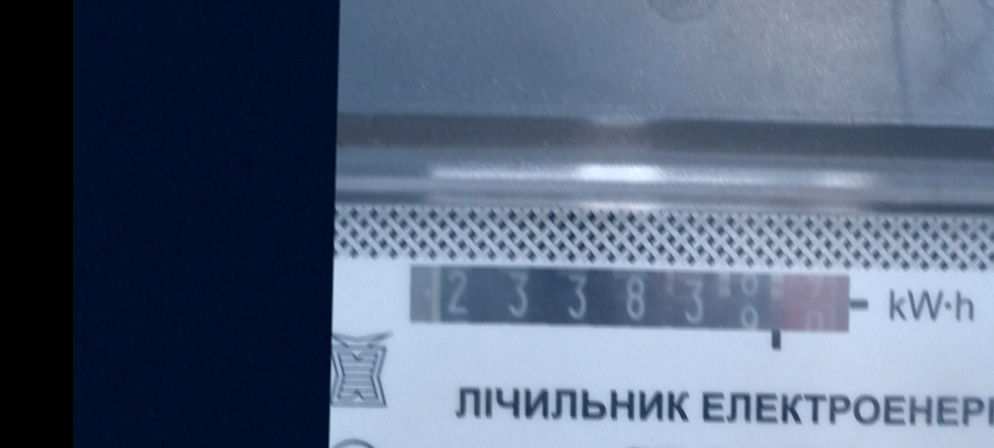0: (804, 308, 827, 334)
2: (446, 268, 471, 316)
3: (562, 271, 592, 321), (504, 269, 534, 318), (682, 277, 707, 323)
8: (622, 274, 650, 321), (738, 271, 762, 298)
9: (804, 271, 827, 302), (739, 303, 760, 332)
screen: (398, 254, 872, 355)
